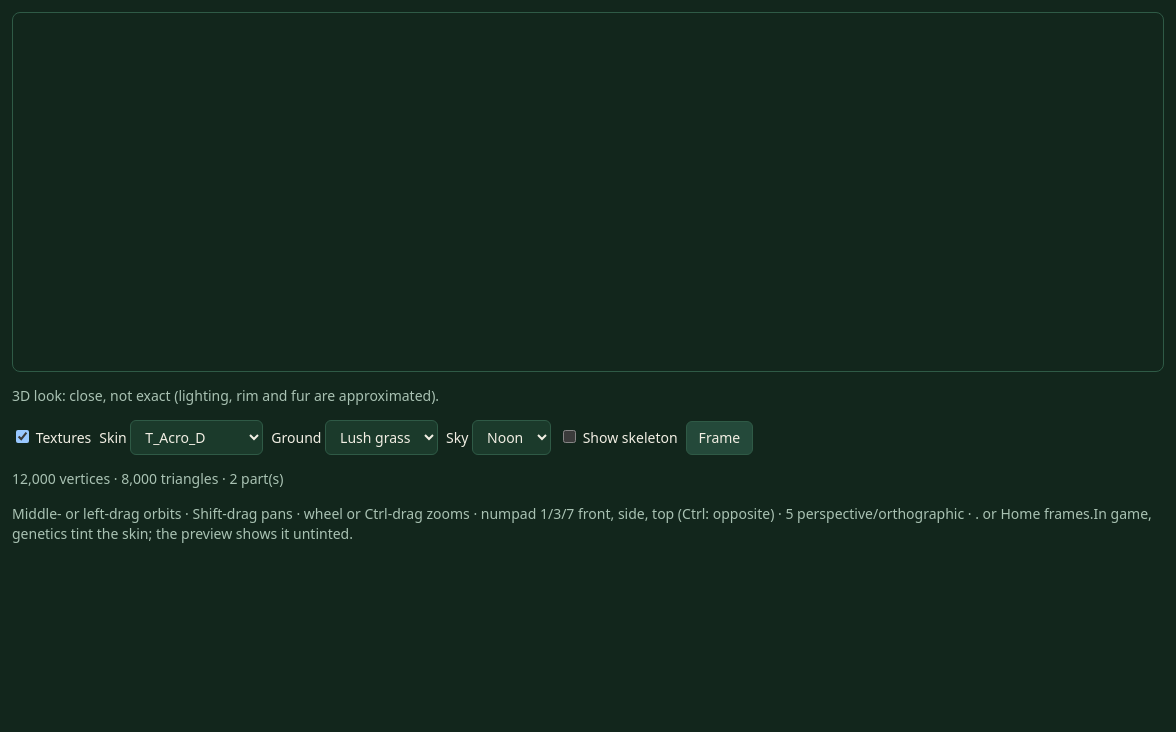
Scenario: ModelPreview › a skin that fails to load returns to the previous choice
Select "T_Acro_alt1_D" in the dropdown labelled "Skin" at [197, 438], box [130, 420, 263, 455]
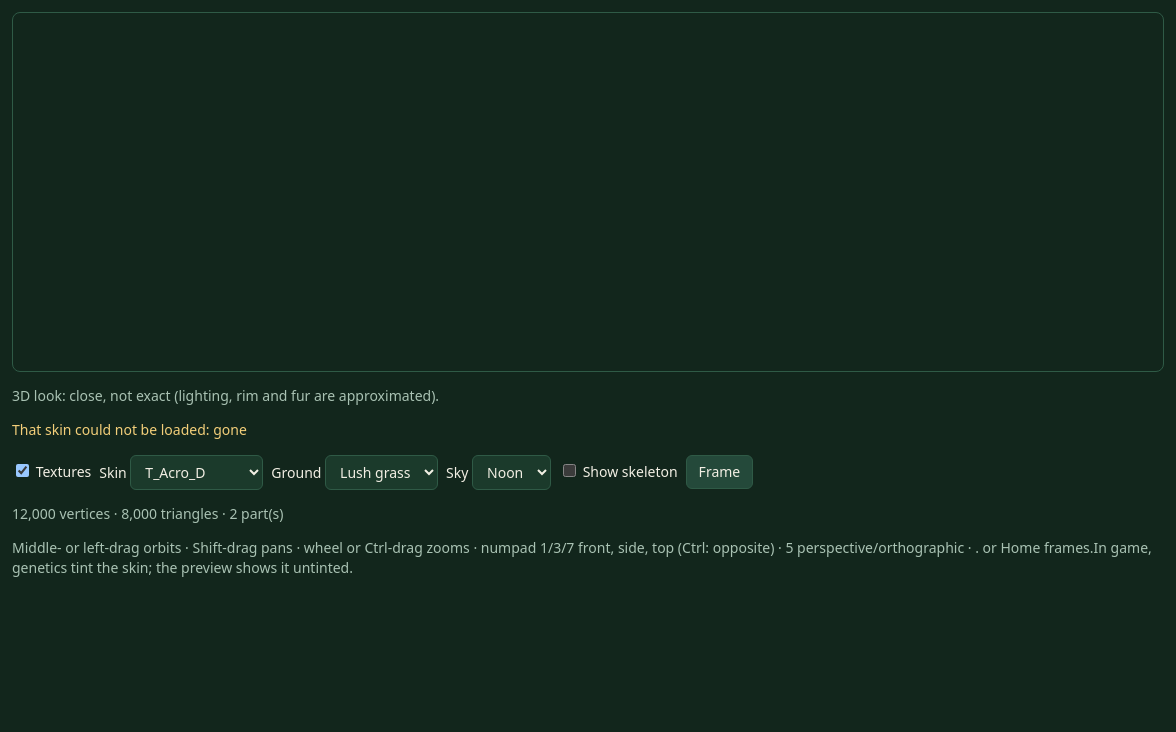
Expected: the text "That skin could not be loaded: gone" is shown, [12, 420, 247, 439]
